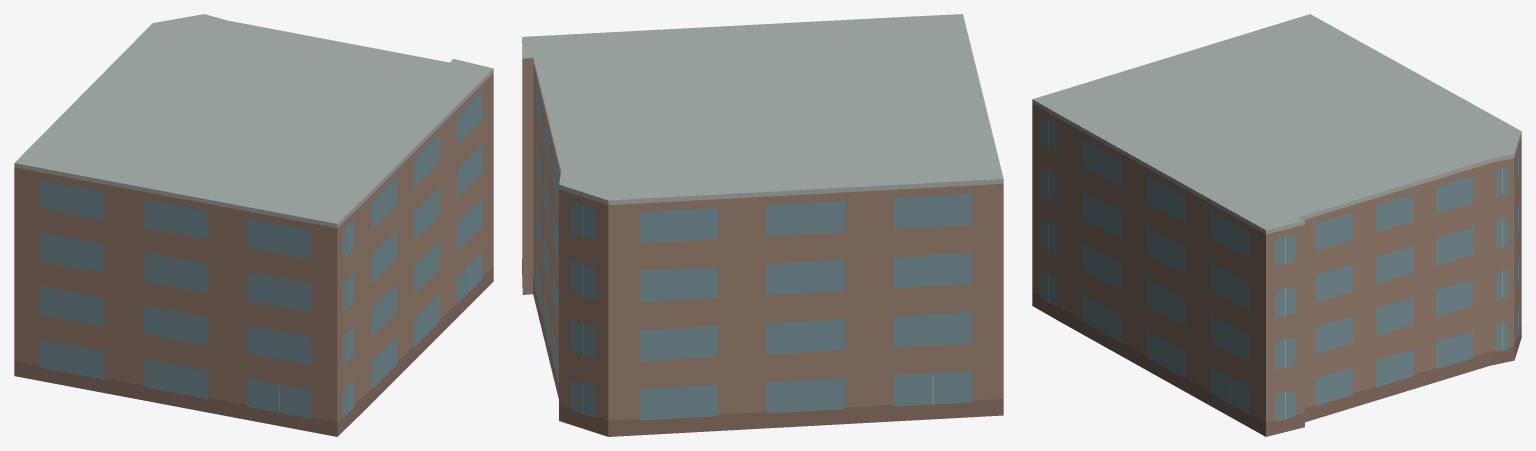
The model's file is survey-upis-32825874.glb.
The picture shows the model from 3 angles, left to right: view 1: azimuth 30°, elevation 25°; view 2: azimuth 150°, elevation 25°; view 3: azimuth 270°, elevation 25°; orthographic projection. The views are drawn at different scales.
Visible parts, largest first — view 1: survey-upis-32825874.tmp; view 2: survey-upis-32825874.tmp; view 3: survey-upis-32825874.tmp.
Part boxes in pixels (x1,y1,x2,y2): survey-upis-32825874.tmp: (14,14,493,436); survey-upis-32825874.tmp: (522,14,1003,436); survey-upis-32825874.tmp: (1032,14,1521,436).
Bounding box in the file's own units: 27.39 × 12.2 × 26.18.
